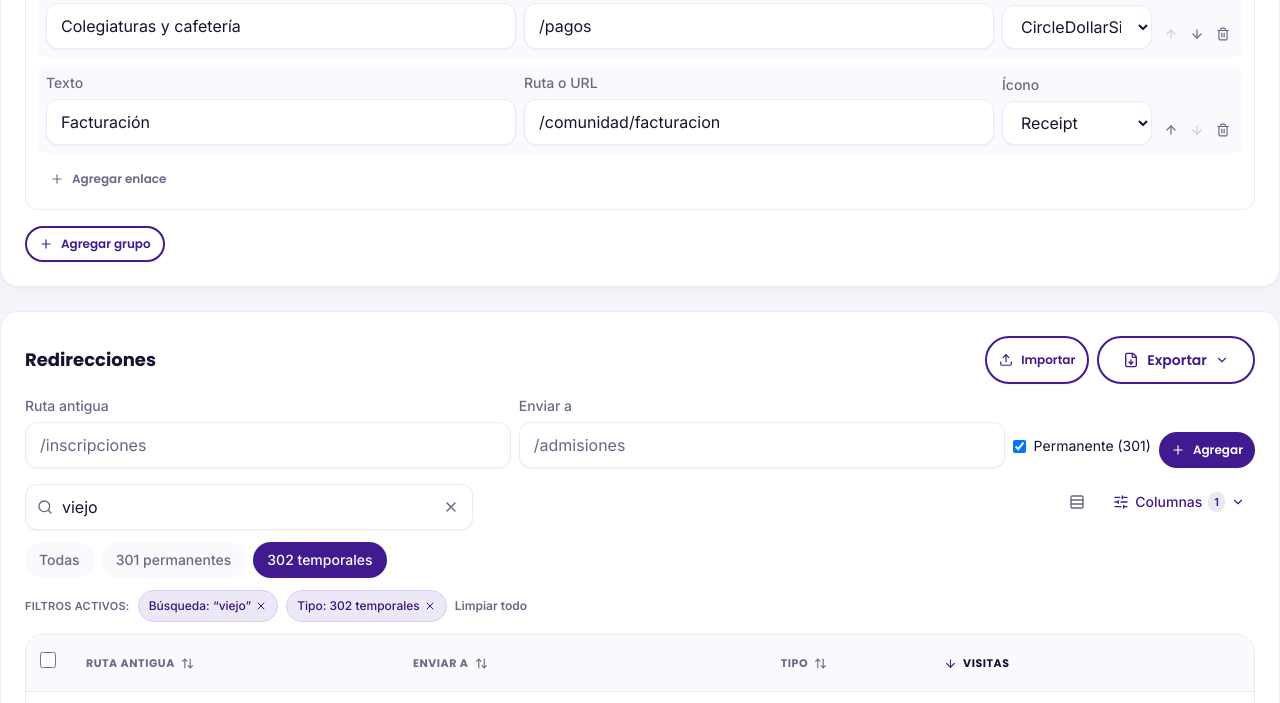
Test: AdminNavigation redirects › lists redirects on the list contract and opens the import dialog
(page scrolled)
Click the button "Importar" at {"x": 1037, "y": 360}, box left=985, top=336, right=1089, bottom=384
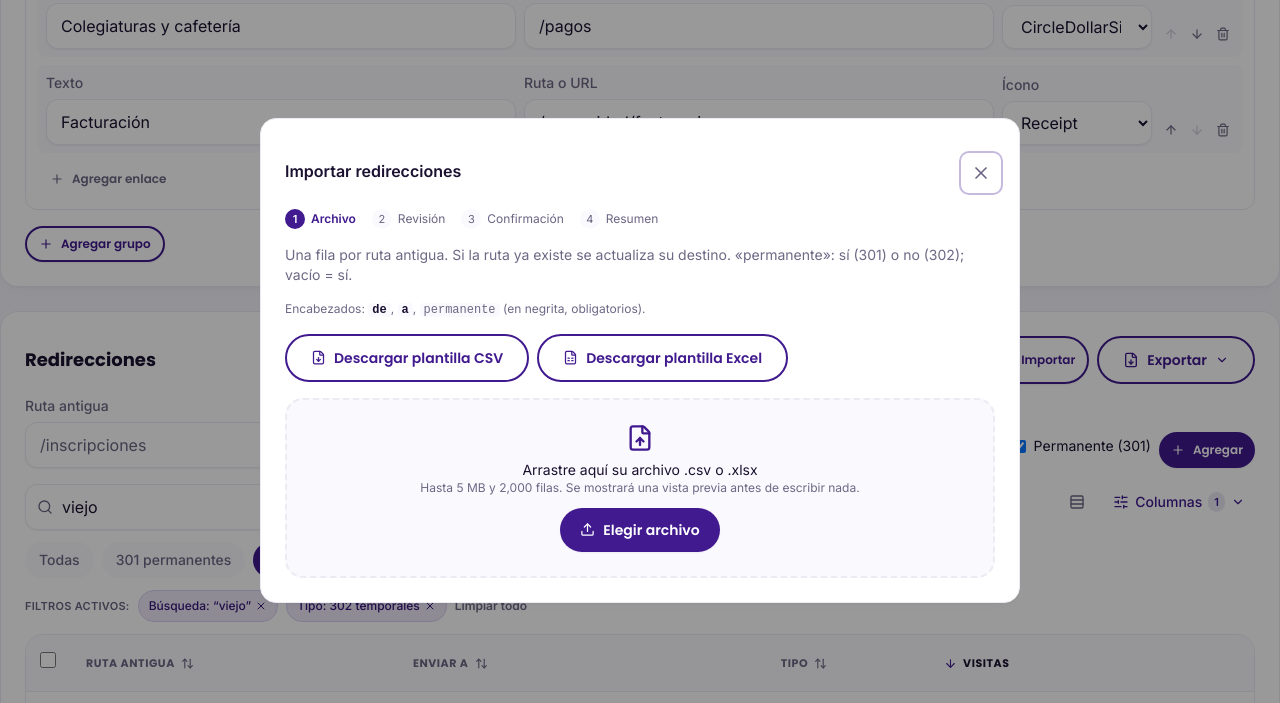
Check: the text "permanente" is shown, box left=420, top=302, right=500, bottom=316
